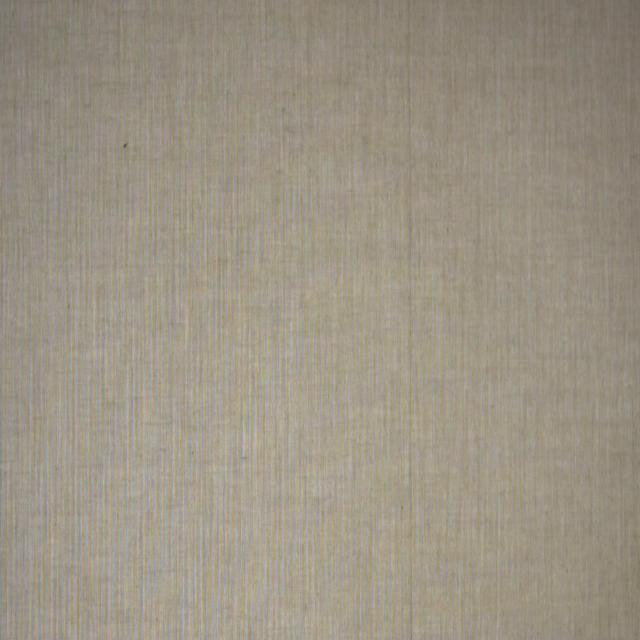dirty: (123, 142, 129, 151)
